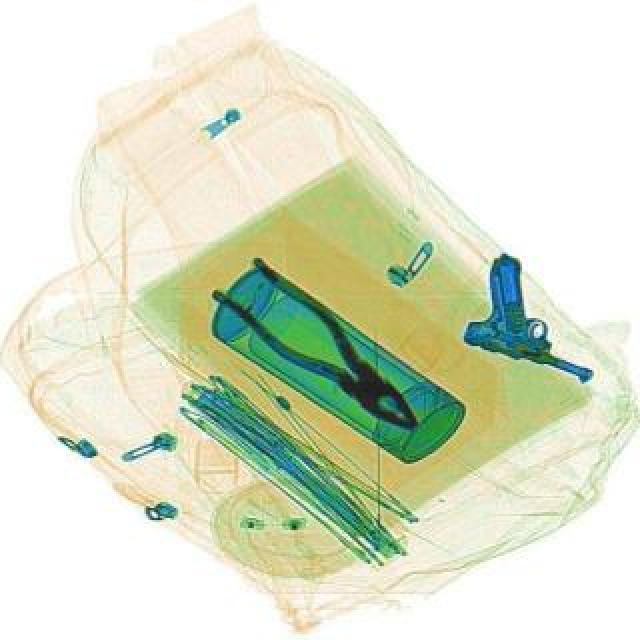gun: (454, 248, 624, 386)
wrench: (204, 248, 440, 452)
